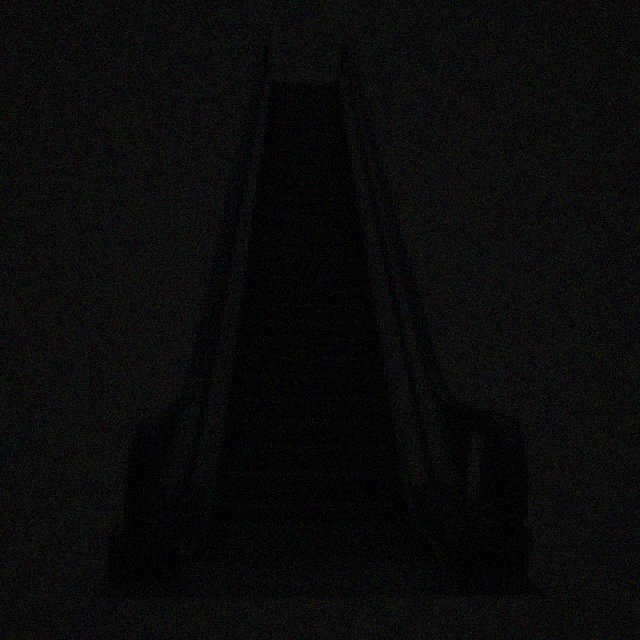stair: (200, 86, 427, 559)
